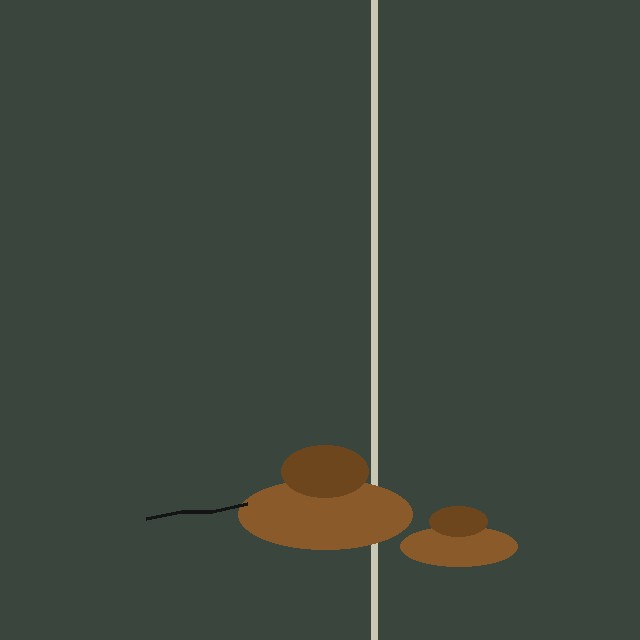animal: (238, 445, 412, 549), (400, 506, 517, 566)
crack: (146, 450, 239, 586)
